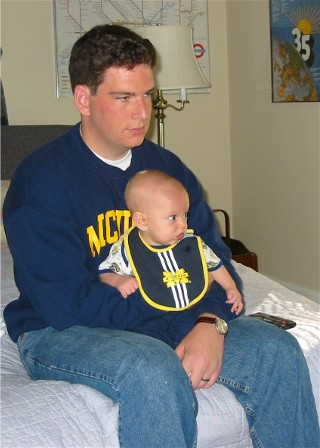person: (3, 25, 320, 448), (97, 170, 245, 317)
